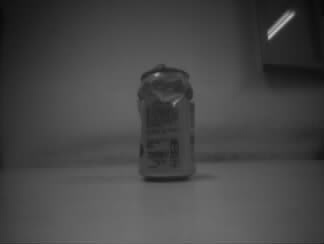Tin can: (136, 62, 197, 181)
